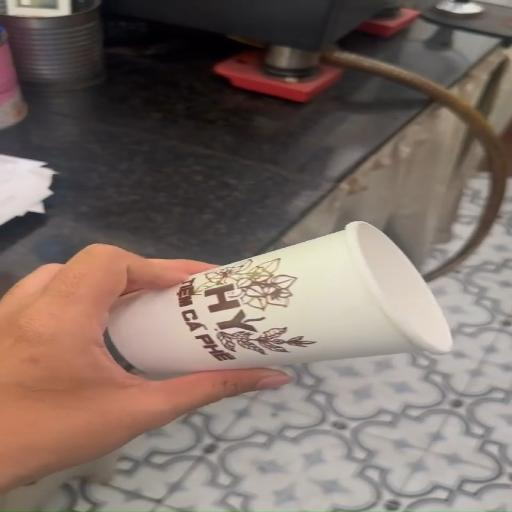Ly_giay: (108, 222, 451, 377)
